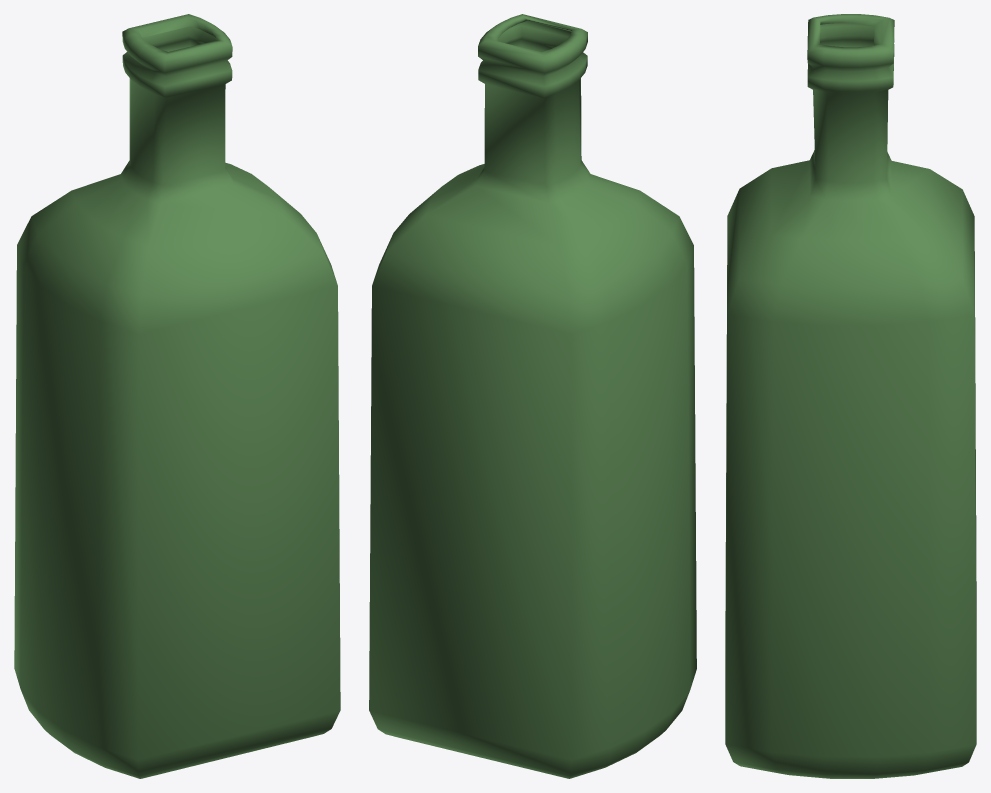
File: Botella00.fbx
3 views of the same model, side by side, from view 1: azimuth 30°, elevation 25°; view 2: azimuth 150°, elevation 25°; view 3: azimuth 270°, elevation 25° (orthographic).
Parts seen in each view (by area): view 1: Botella_Cerveza.002; view 2: Botella_Cerveza.002; view 3: Botella_Cerveza.002.
Boxes of the visible parts, left/top/right/bottom form: Botella_Cerveza.002: left=14, top=14, right=340, bottom=778; Botella_Cerveza.002: left=369, top=14, right=696, bottom=778; Botella_Cerveza.002: left=725, top=14, right=976, bottom=778.
Bounding box in the file's own units: 1065 × 2767 × 906.
